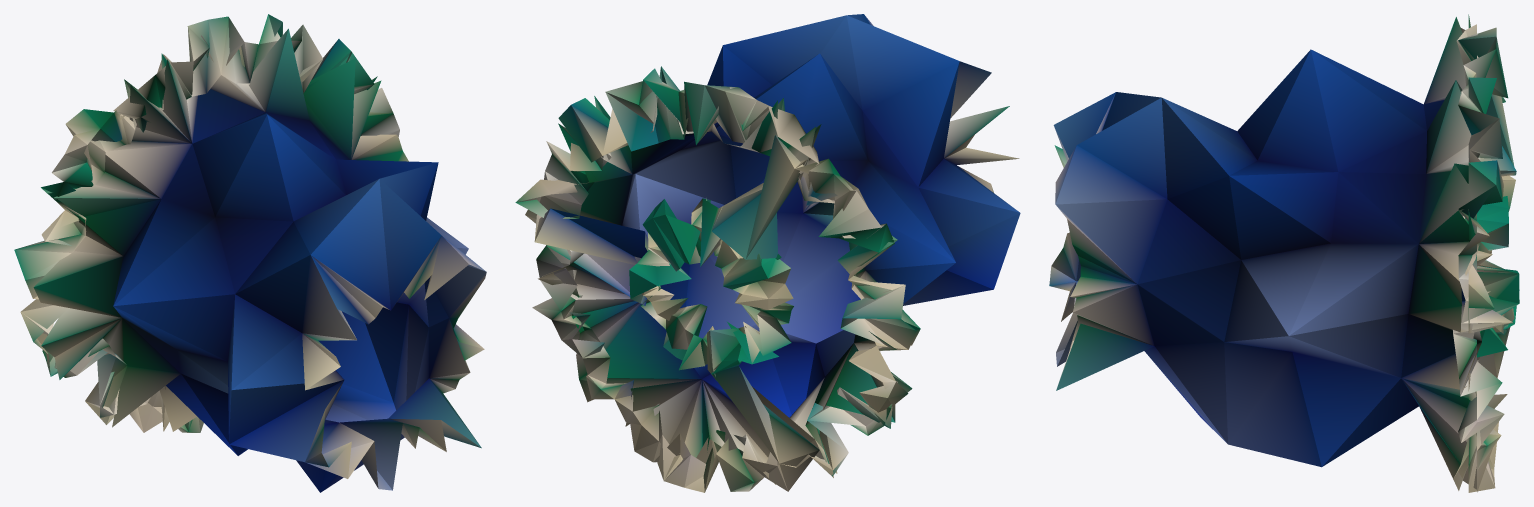
File: lamp_shade_2_final500.obj
The picture shows the model from 3 angles, left to right: view 1: azimuth 30°, elevation 25°; view 2: azimuth 150°, elevation 25°; view 3: azimuth 270°, elevation 25°; orthographic projection. The views are drawn at different scales.
Bounding box in the file's own units: 1.27 × 1.28 × 1.25.
